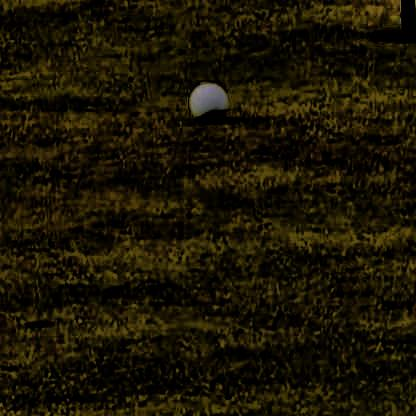golfball: (186, 79, 228, 118)
